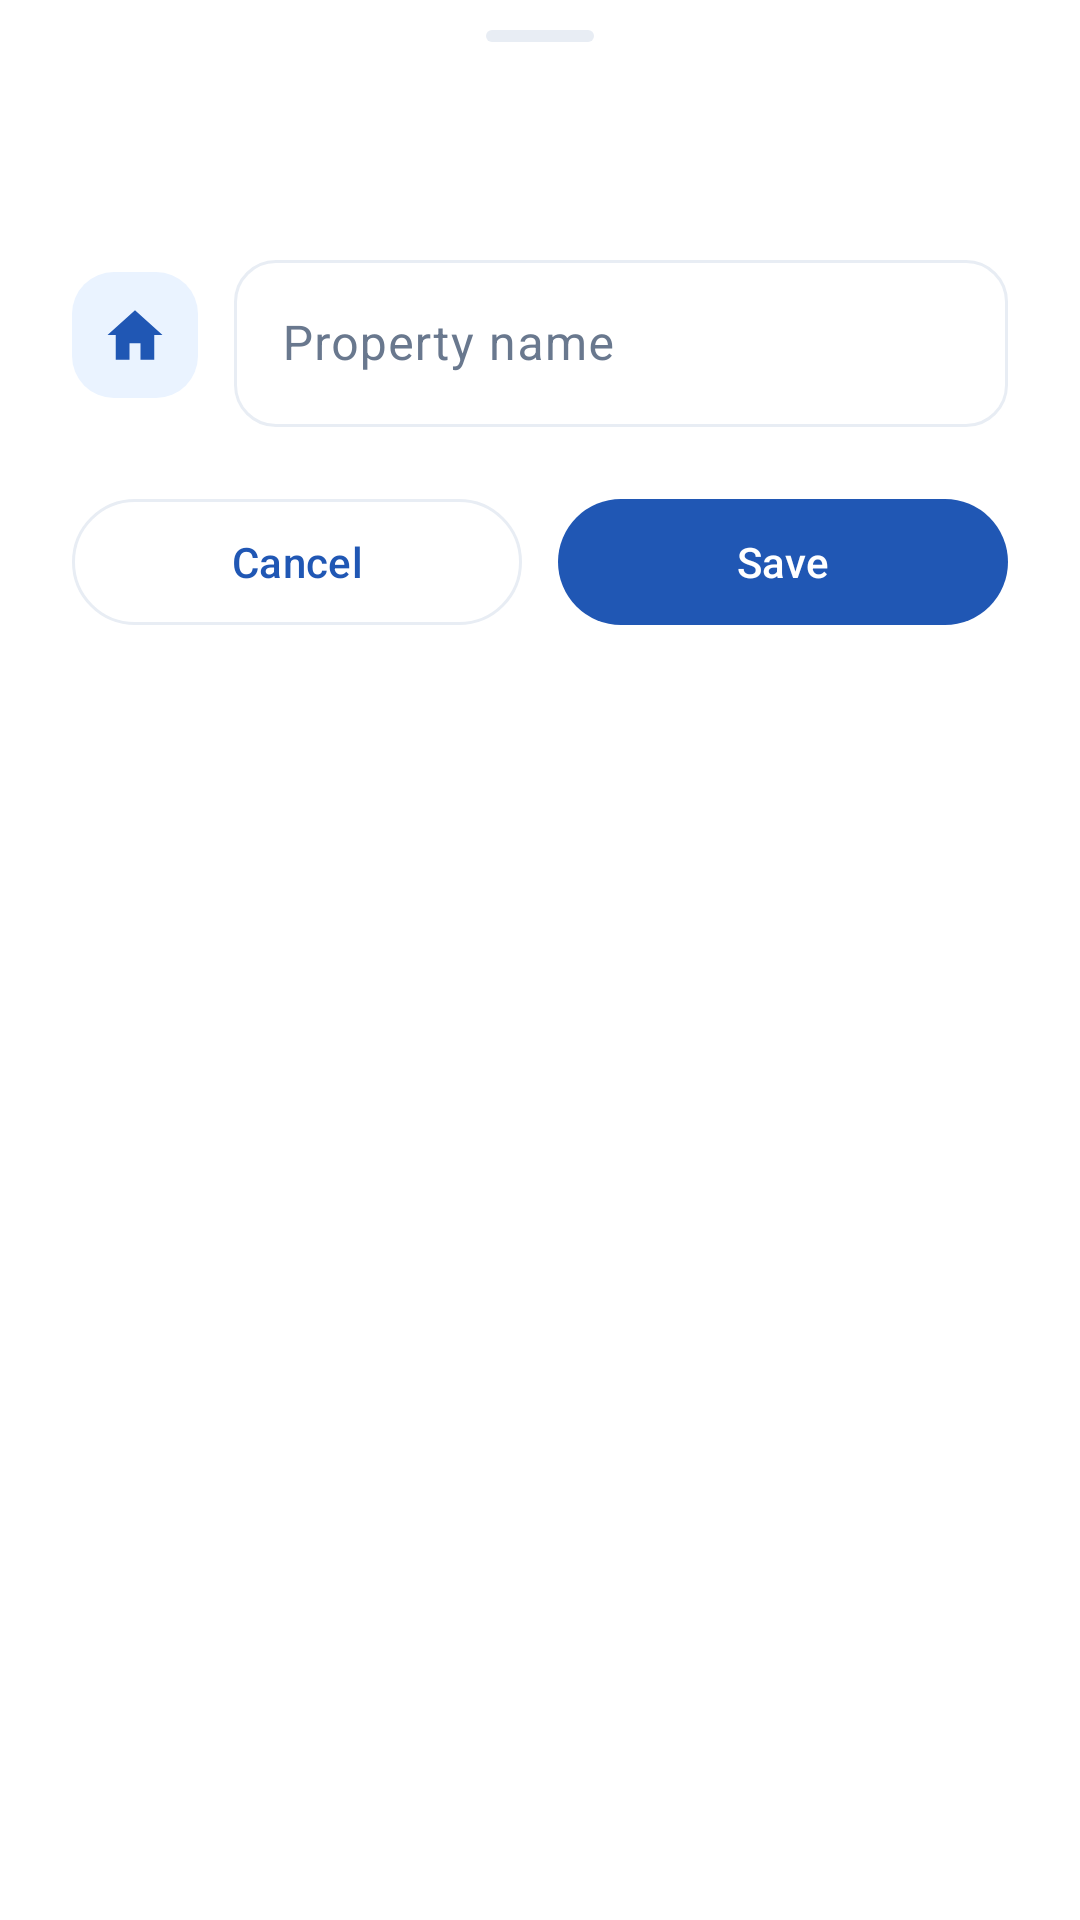

Screen size 1080px x 1920px. Icon name, then its center in pixels as [x,y]:
home: [135,335]
